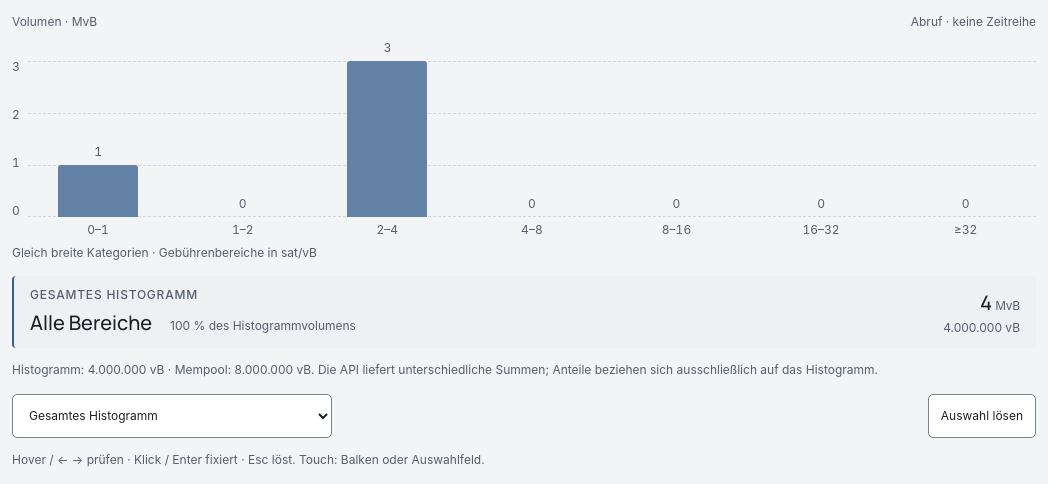
Test: histogram inspection › uses histogram totals for shares and exposes divergent mempool totals
Select "0–<1 sat/vB · 1.000.000 vB" in the dropdown. click: (172,416)
box: [12,394,332,438]
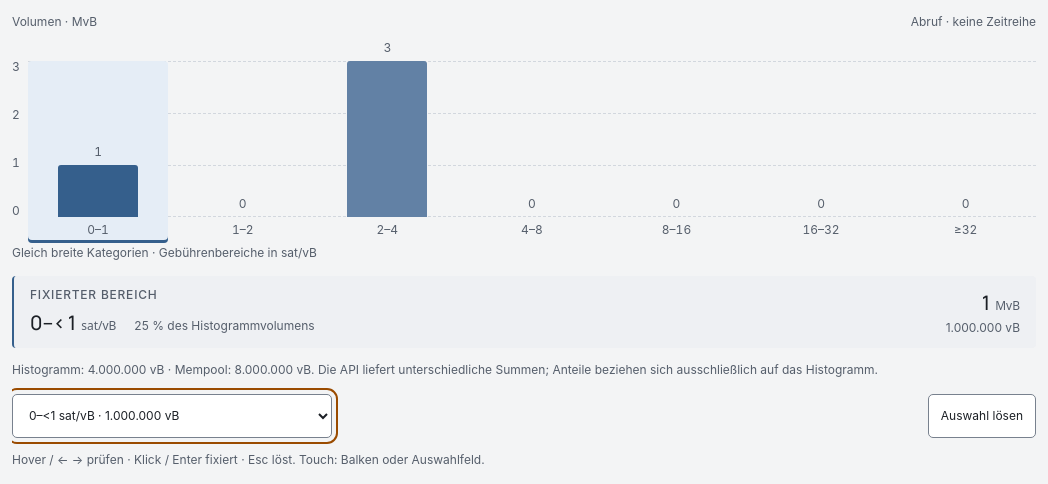
expect the text "API liefert unterschiedliche Summen" shows "Histogramm: 4.000.000 vB · Mempool: 8.000.000 vB": met, box [12,362,878,377]
expect the message shows "25 % des Histogrammvolumens": met, box [12,276,1036,348]
